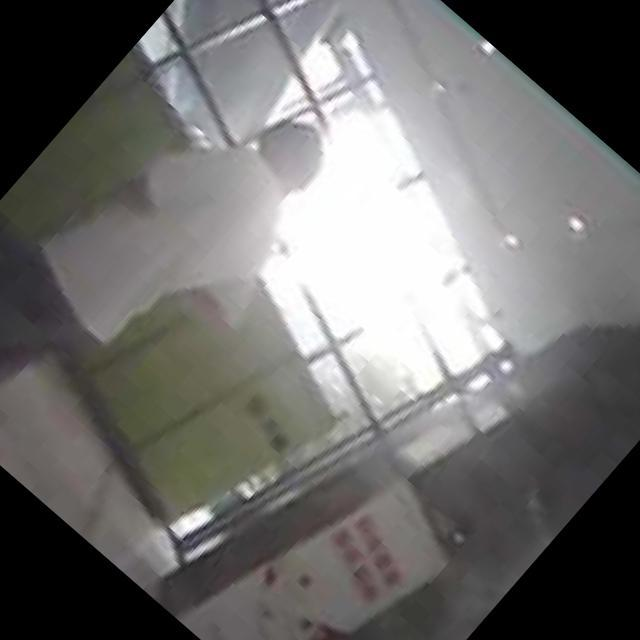person: (0, 3, 350, 507)
